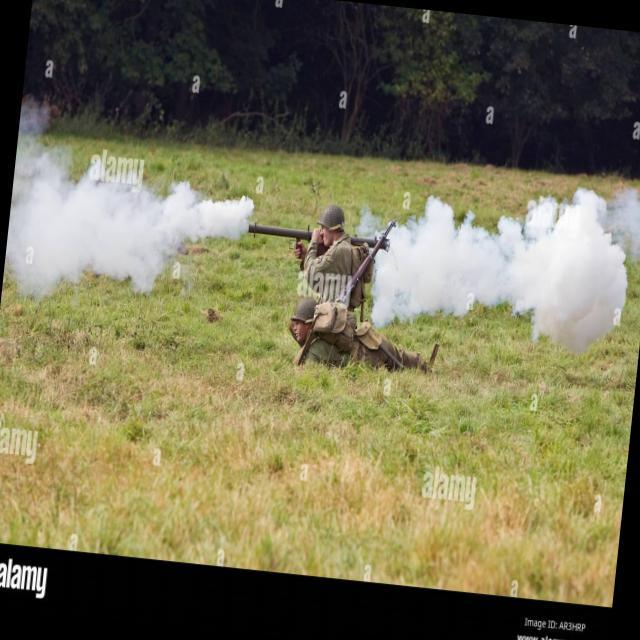rocket: (248, 209, 390, 258)
